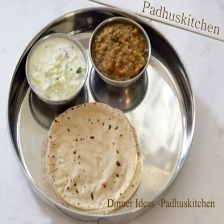roti: (38, 100, 146, 215)
